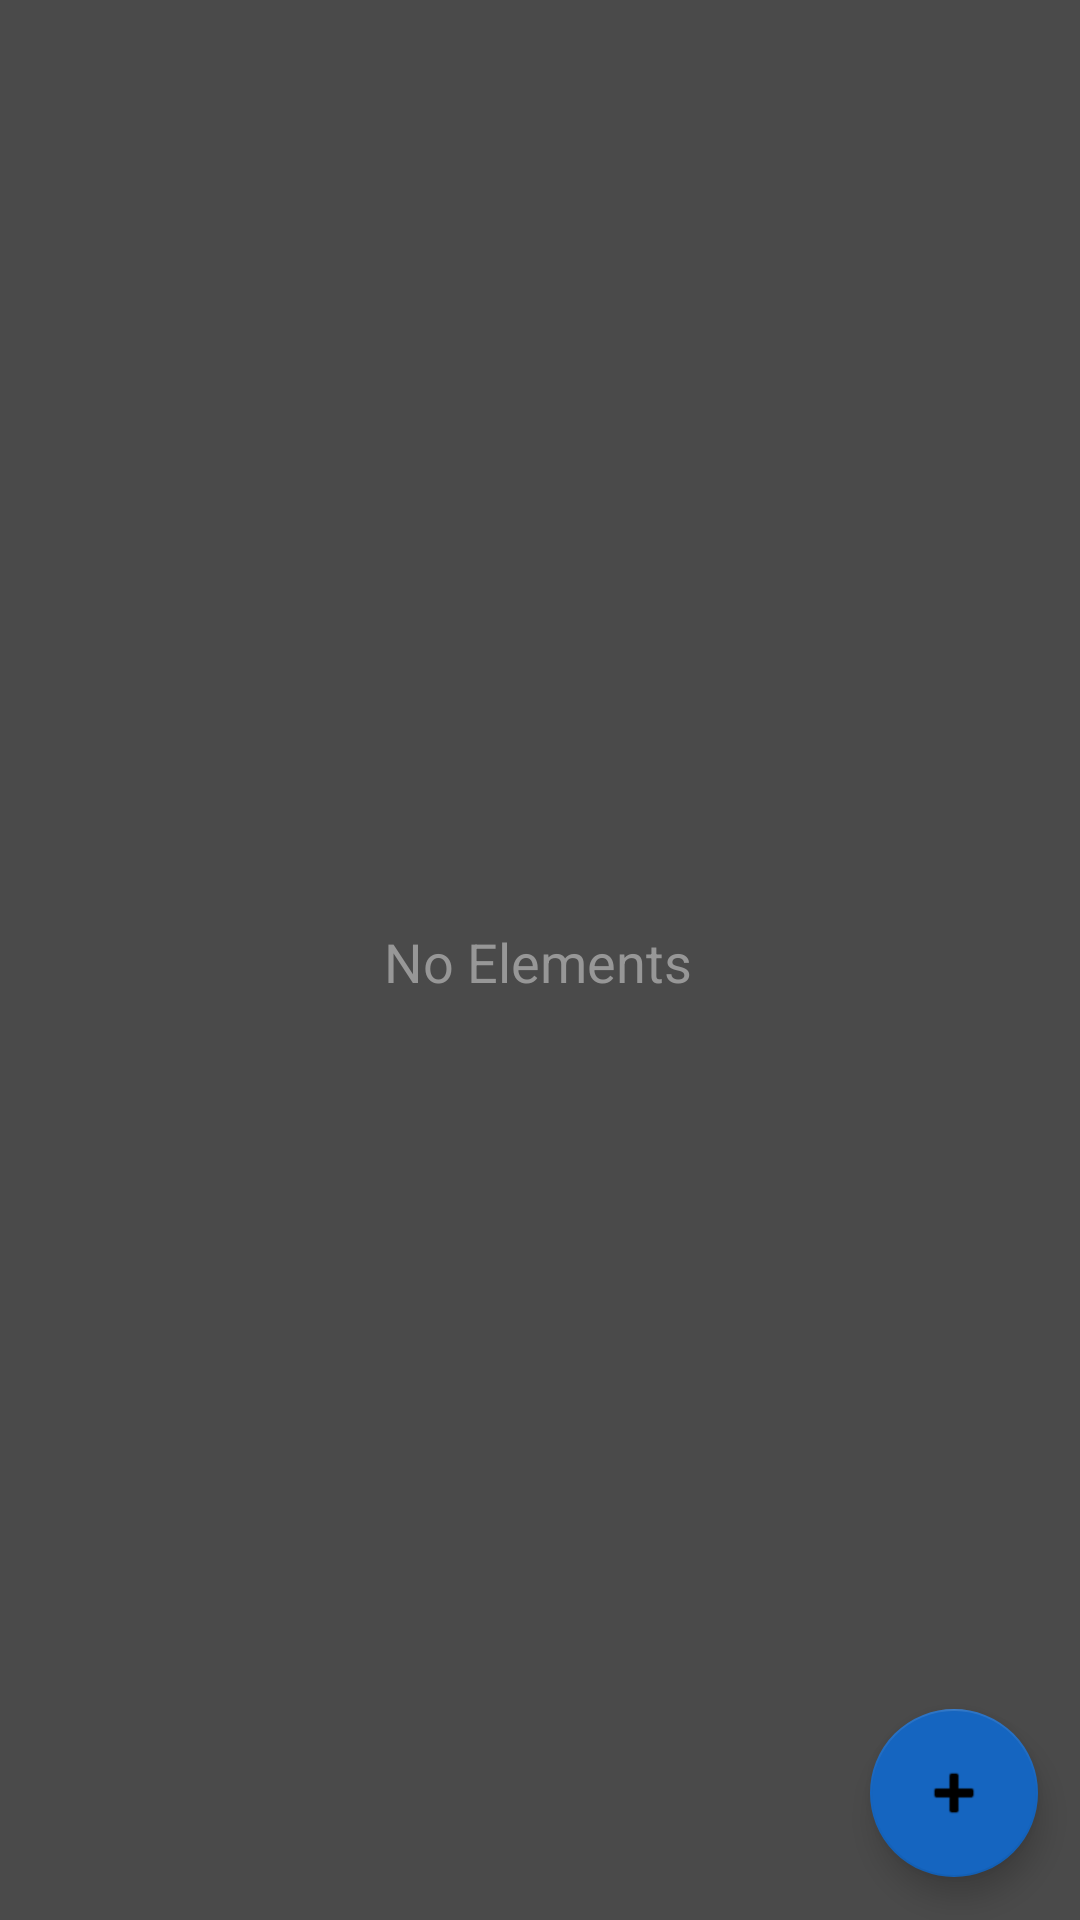

Point at icon controls on the screen. Image size 1080px×1920px, points as (x,y).
add: (954,1793)
